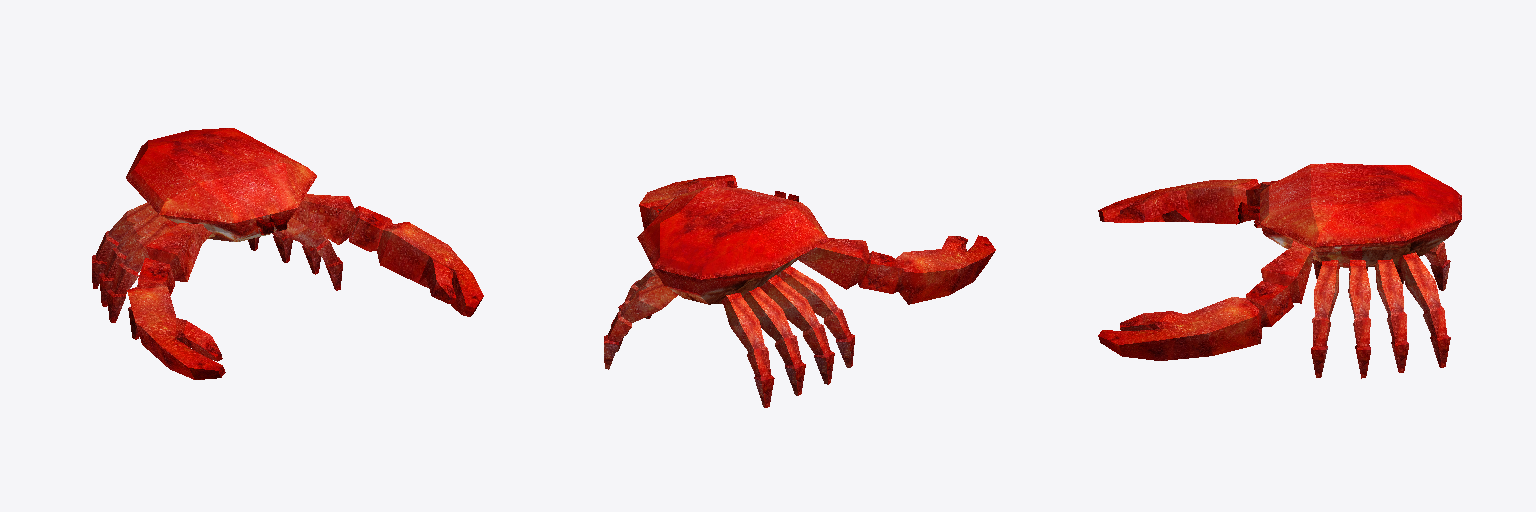
3 views of the same model, side by side, from view 1: azimuth 30°, elevation 25°; view 2: azimuth 150°, elevation 25°; view 3: azimuth 270°, elevation 25° (orthographic).
Parts seen in each view (by area): view 1: Head, ArmLeft, ArmRight, LegRightMiddleFront, LegRightBack, LegRightMiddleBack, LegLeftFront; view 2: Head, ArmRight, LegRightMiddleFront, LegRightBack, LegRightMiddleBack, LegRightFront, LegLeftBack, ArmLeft; view 3: Head, ArmLeft, ArmRight, LegLeftBack, LegLeftMiddleBack, LegLeftFront, LegLeftMiddleFront, LegRightBack.
Boxes of the visible parts, x1,y1,x2,y2 form: Head: [126, 128, 316, 241]; ArmLeft: [291, 194, 483, 316]; ArmRight: [127, 223, 225, 379]; LegRightMiddleFront: [106, 220, 177, 322]; LegRightBack: [92, 202, 155, 288]; LegRightMiddleBack: [99, 212, 168, 306]; LegLeftFront: [280, 218, 342, 290]; Head: [637, 186, 829, 304]; ArmRight: [798, 235, 995, 304]; LegRightMiddleFront: [760, 275, 834, 384]; LegRightBack: [721, 293, 774, 407]; LegRightMiddleBack: [743, 287, 805, 395]; LegRightFront: [777, 266, 854, 367]; LegLeftBack: [604, 281, 677, 369]; ArmLeft: [639, 175, 737, 229]; Head: [1238, 163, 1461, 267]; ArmLeft: [1098, 241, 1312, 360]; ArmRight: [1098, 179, 1278, 224]; LegLeftBack: [1398, 252, 1450, 367]; LegLeftMiddleBack: [1375, 259, 1408, 372]; LegLeftFront: [1311, 260, 1339, 377]; LegLeftMiddleFront: [1348, 260, 1370, 378]; LegRightBack: [1424, 242, 1450, 290].
Bounding box in the file's own units: 2.24 × 0.9914 × 2.25.
Materials: 1 (1 with a texture image).